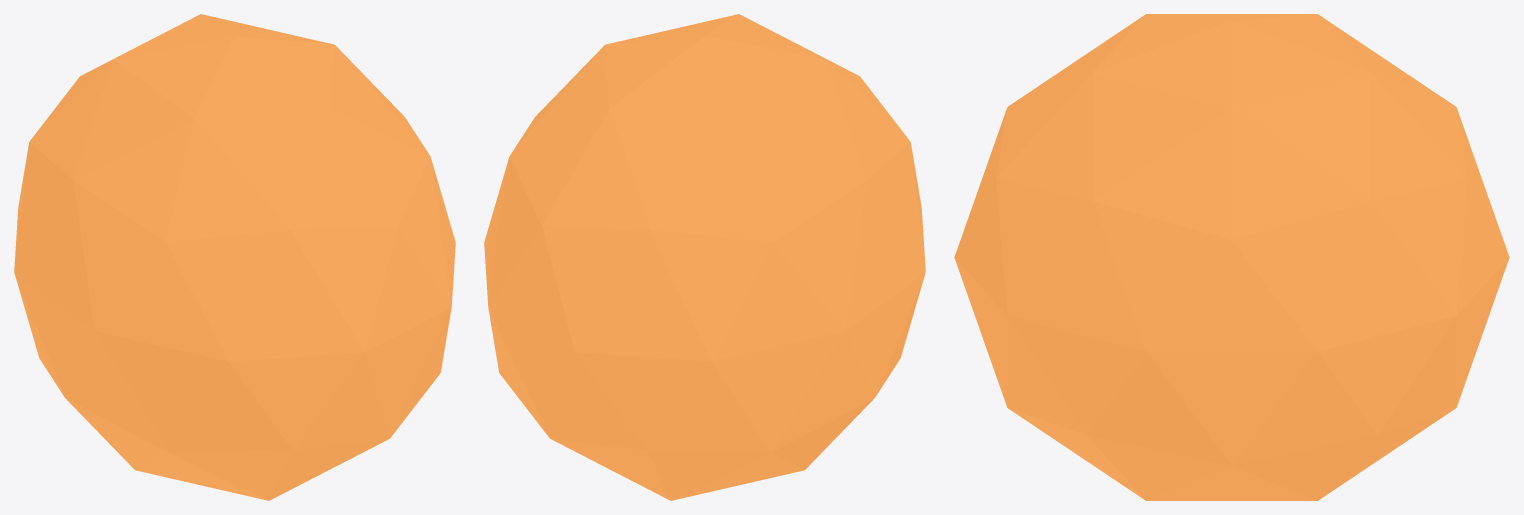
File: fragment_7.glb
The picture shows the model from 3 angles, left to right: view 1: azimuth 30°, elevation 25°; view 2: azimuth 150°, elevation 25°; view 3: azimuth 270°, elevation 25°; orthographic projection. The views are drawn at different scales.
Visible parts, largest first — view 1: fragment_7; view 2: fragment_7; view 3: fragment_7.
Boxes of the visible parts, box(x1,y1,x2,y2) form: fragment_7: box(14, 14, 455, 500); fragment_7: box(484, 14, 925, 500); fragment_7: box(954, 14, 1509, 500).
Size of the model in its own units: 0.6708 by 0.7858 by 0.8353.
